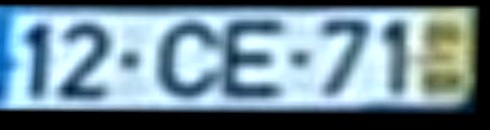1: (20, 19, 57, 105), (380, 19, 410, 103)
2: (55, 21, 118, 104)
7: (318, 17, 375, 103)
C: (152, 16, 224, 106)
E: (219, 19, 286, 103)
